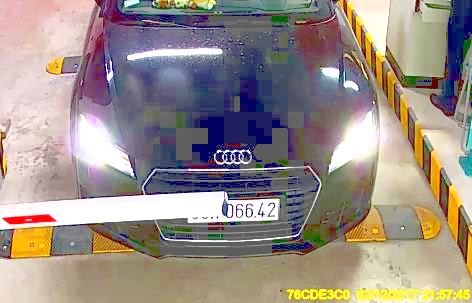plate: (180, 192, 285, 225)
